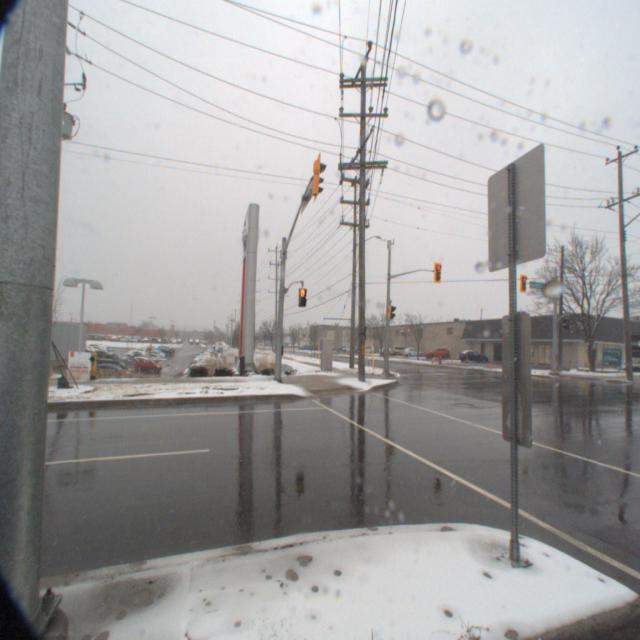Car: (420, 346, 450, 360), (398, 347, 424, 358)
